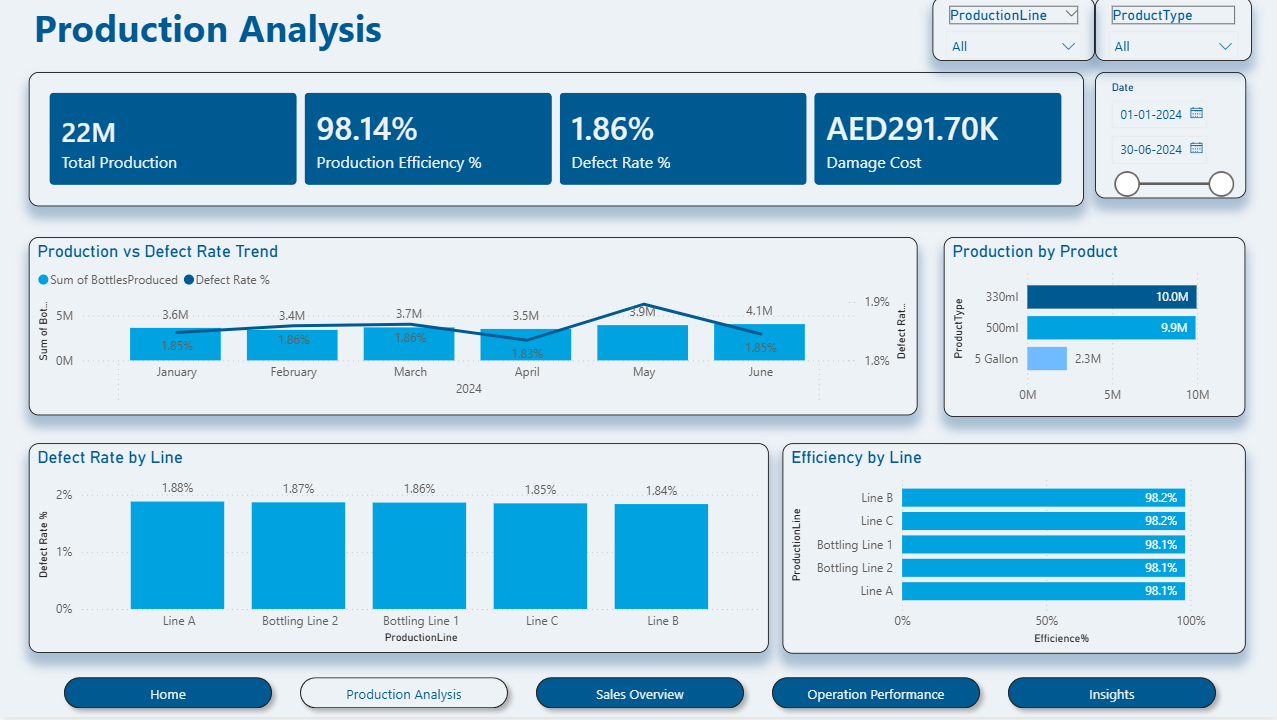

This screenshot's page, from the dashboard's own definition file:
{"tool":"powerbi","page":{"name":"Production Analysis","canvas":[1280,720],"ordinal":1},"visuals":[{"type":"lineClusteredColumnComboChart","title":"Production vs Defect Rate Trend","fields":{"Category":["Rawda_production_sales.Date.Variation.Date Hierarchy.Year","Rawda_production_sales.Date.Variation.Date Hierarchy.Month"],"Y":["Sum(Rawda_production_sales.BottlesProduced)"],"Y2":["Rawda_production_sales.Defect Rate %"]},"box":[28.6,240,888.6,178.6],"z":0},{"type":"textbox","box":[29.2,0,358.3,63.9],"z":1000},{"type":"slicer","fields":{"Values":["Rawda_production_sales.Date"]},"box":[1094.4,75,151.4,126.4],"z":2000},{"type":"cardVisual","fields":{"Data":["Sum(Rawda_production_sales.BottlesProduced)","Rawda_production_sales.Production Efficiency %","Rawda_production_sales.Defect Rate %","Rawda_production_sales.Damage Cost"]},"box":[29.2,75,1055.6,134.7],"z":3000},{"type":"clusteredBarChart","title":"Production by Product","fields":{"Category":["Rawda_production_sales.ProductType"],"Y":["Rawda_production_sales.Total Production"]},"box":[944.3,240,301.4,180],"z":4000},{"type":"clusteredColumnChart","title":"Defect Rate by Line","fields":{"Category":["Rawda_production_sales.ProductionLine"],"Y":["Rawda_production_sales.Defect Rate %"]},"box":[29.2,445.8,740.3,209.7],"z":5000},{"type":"clusteredBarChart","title":"Efficiency by Line","fields":{"Category":["Rawda_production_sales.ProductionLine"],"Y":["Rawda_production_sales.Efficience%"]},"box":[782.9,445.7,462.9,210],"z":6000},{"type":"slicer","fields":{"Values":["Rawda_production_sales.ProductType"]},"box":[1094.4,0,156.9,63.9],"z":7000},{"type":"slicer","fields":{"Values":["Rawda_production_sales.ProductionLine"]},"box":[931.9,0,162.5,63.9],"z":8000},{"type":"pageNavigator","box":[54.7,670.7,1170.7,49.3],"z":9000}]}

Visuals, with their boxes in screenshot pixels (x1, y1, x2, y2), scaled from the page's 1280x720 canvas onto the 1277x720 screenshot:
"Production vs Defect Rate Trend" lineClusteredColumnComboChart: <box>29,240,915,419</box>
textbox: <box>29,0,387,64</box>
slicer - Rawda_production_sales.Date: <box>1092,75,1243,201</box>
cardVisual - Sum(Rawda_production_sales.BottlesProduced) x Rawda_production_sales.Production Efficiency %: <box>29,75,1082,210</box>
"Production by Product" clusteredBarChart: <box>942,240,1243,420</box>
"Defect Rate by Line" clusteredColumnChart: <box>29,446,768,656</box>
"Efficiency by Line" clusteredBarChart: <box>781,446,1243,656</box>
slicer - Rawda_production_sales.ProductType: <box>1092,0,1248,64</box>
slicer - Rawda_production_sales.ProductionLine: <box>930,0,1092,64</box>
pageNavigator: <box>55,671,1223,719</box>
